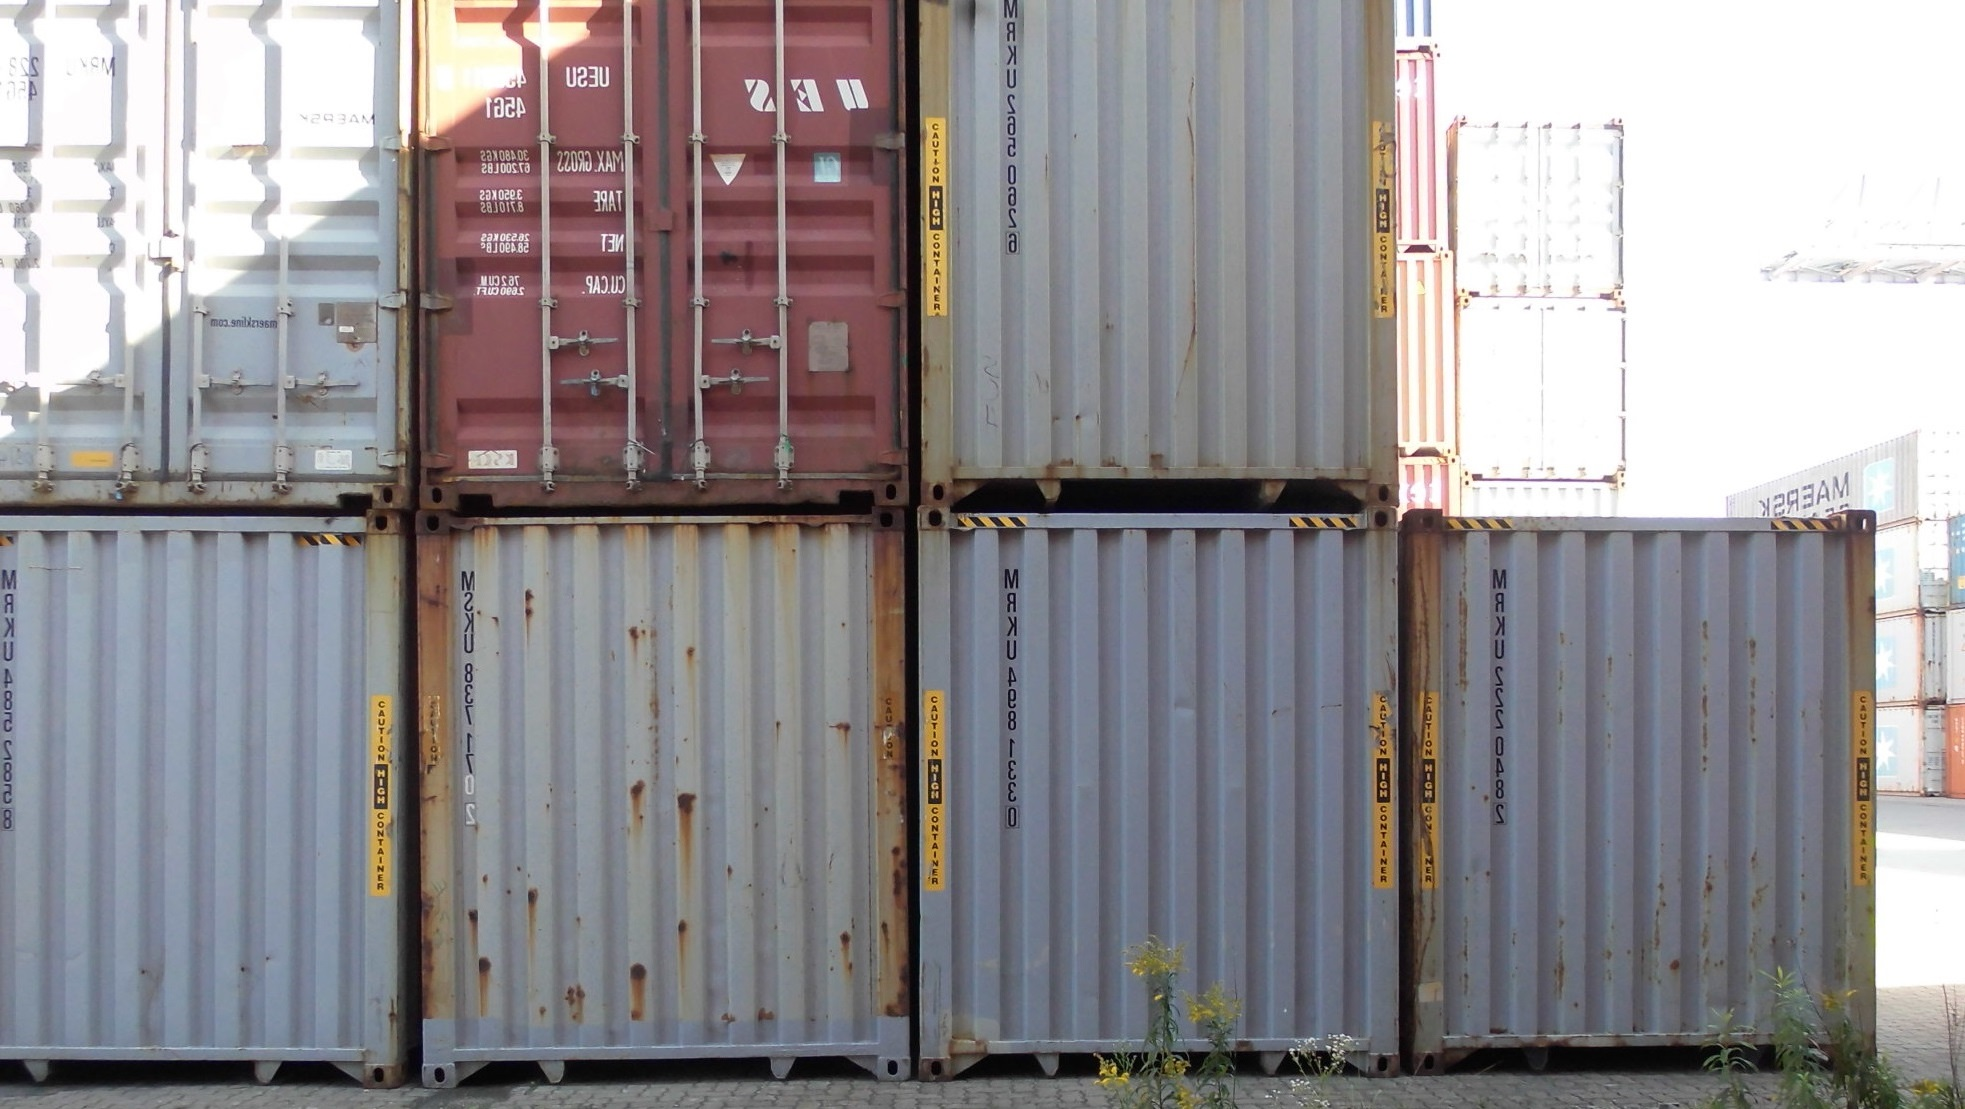container_door: (417, 1, 906, 501), (8, 11, 412, 503)
container_no_door: (903, 510, 1412, 1071), (416, 511, 923, 1073), (1416, 506, 1883, 1060), (916, 3, 1391, 509), (1, 515, 405, 1081)
